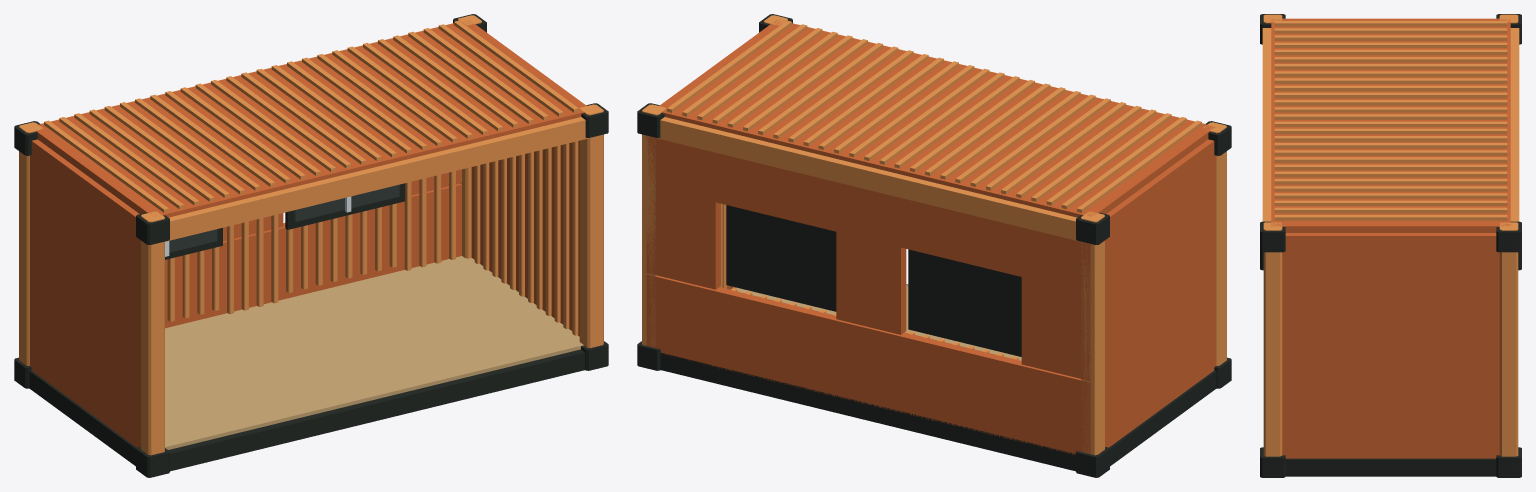
Rendered from gh_container_v01.glb.
3 renders of one model, left to right at view 1: azimuth 30°, elevation 25°; view 2: azimuth 150°, elevation 25°; view 3: azimuth 270°, elevation 25°, orthographic. The views are drawn at different scales.
Visible parts, largest first — view 1: body, roof; view 2: body, roof; view 3: body, roof.
Boxes of the visible parts, left/top/right/bottom form: body: left=14, top=14, right=608, bottom=477; roof: left=36, top=20, right=586, bottom=217; body: left=637, top=14, right=1231, bottom=477; roof: left=659, top=20, right=1214, bottom=217; body: left=1260, top=14, right=1521, bottom=477; roof: left=1271, top=18, right=1510, bottom=232.
Size of the model in its own units: 6.08 by 3.24 by 3.08.
2 materials, 1 textured.
